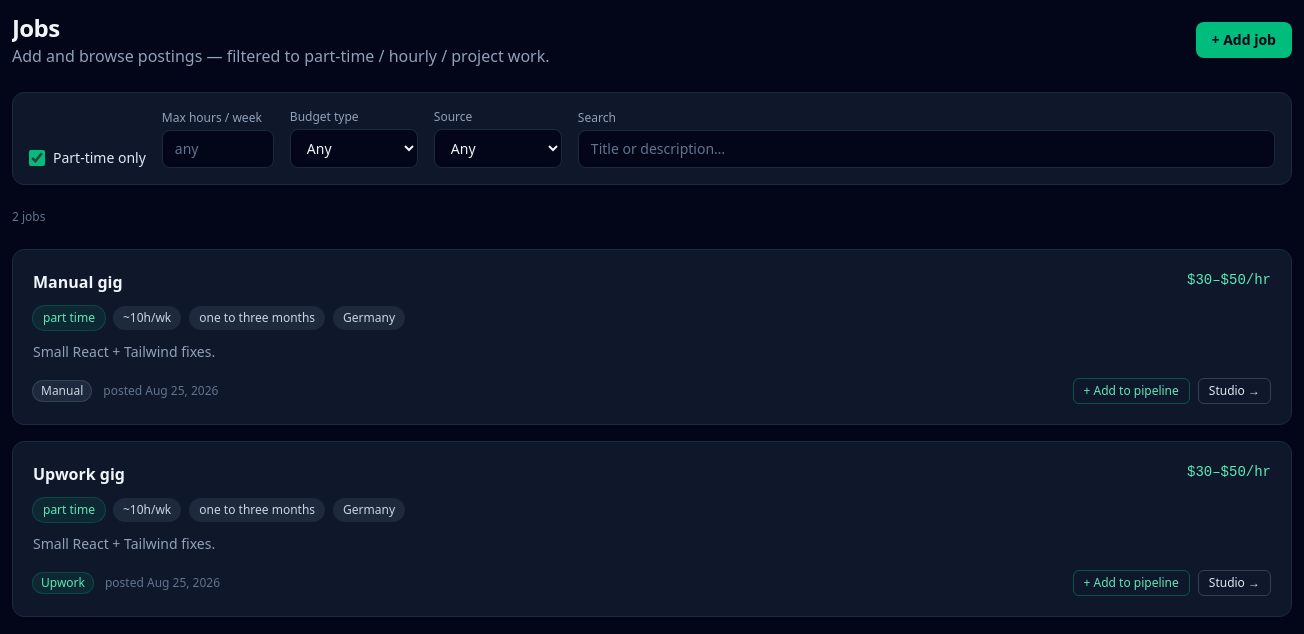
Test case: Jobs page › filters the visible jobs by source (client-side, no refetch)
This screenshot has width=1304, height=634.
expect the link "Manual gig" is shown: met, box [33,271,123,293]
expect the link "Upwork gig" is shown: met, box [33,463,125,485]
Narrowing to Upwork drops the manual posting from the list.
Select "Upwork" in the dropdown labelled "Source" at (498, 148), box [434,129,562,168]
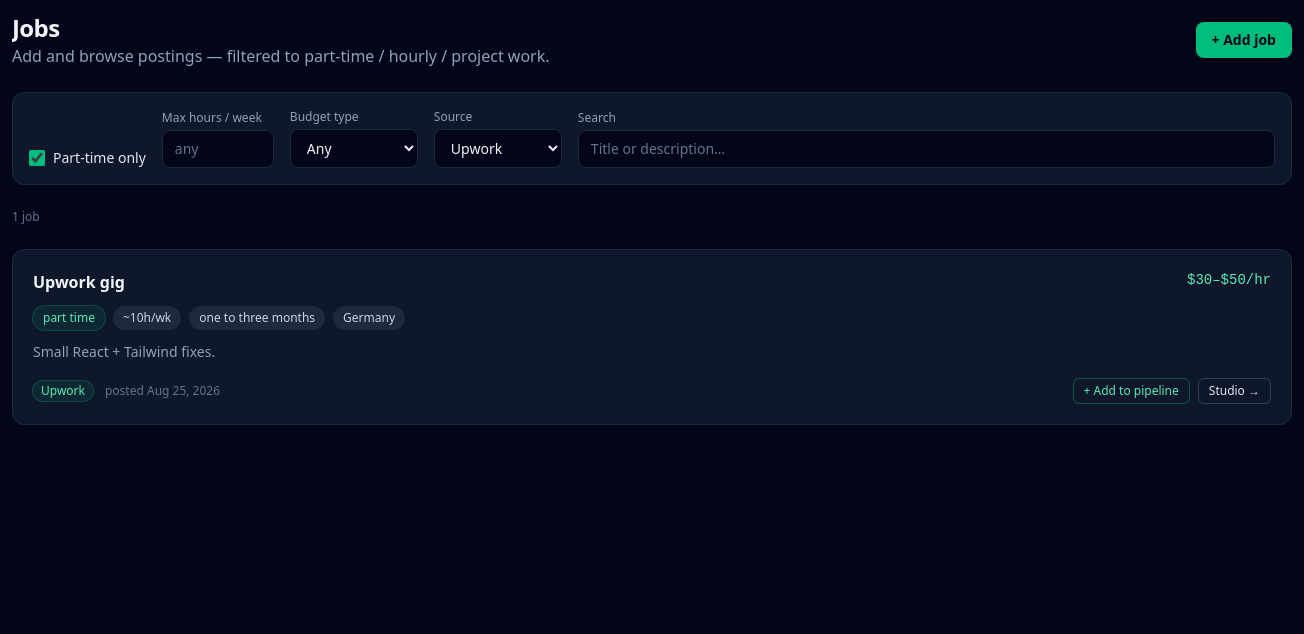
expect the link "Upwork gig" is shown: met, box [33,271,125,293]
expect the link "Manual gig" is gone: met
